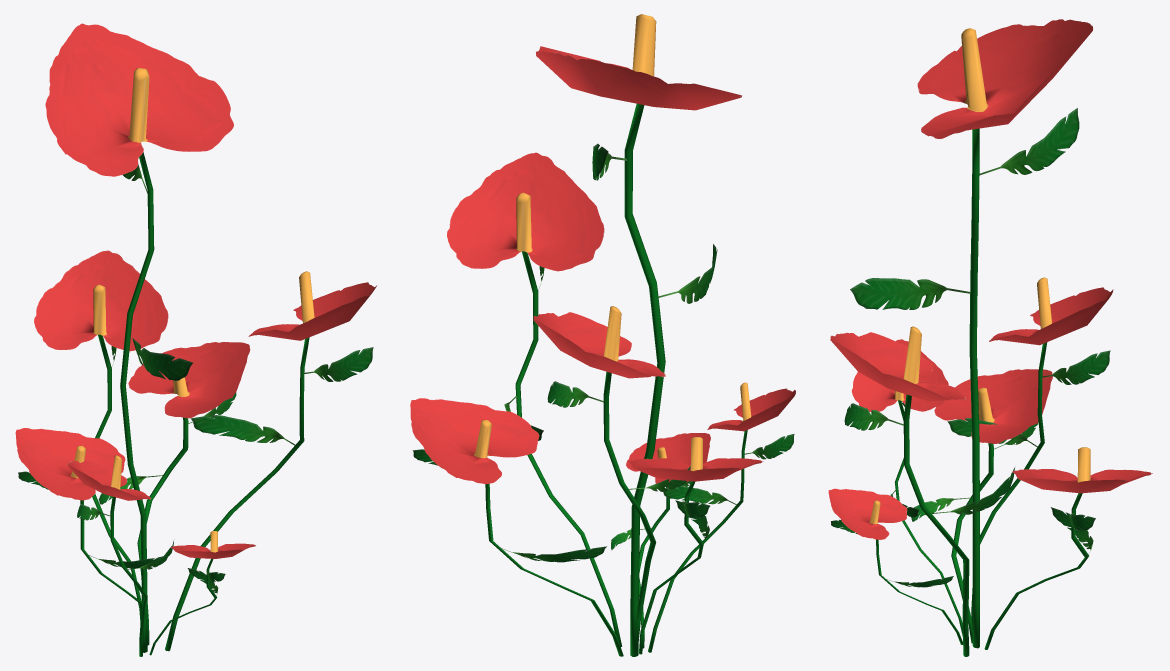
The model's file is red_lion.fbx.
3 renders of one model, left to right at view 1: azimuth 30°, elevation 25°; view 2: azimuth 150°, elevation 25°; view 3: azimuth 270°, elevation 25°, orthographic. The views are drawn at different scales.
Parts seen in each view (by area): view 1: Plane.009; view 2: Plane.009; view 3: Plane.009.
Part boxes in pixels (bbox=[...]): Plane.009: bbox=[15, 23, 376, 656]; Plane.009: bbox=[410, 14, 795, 656]; Plane.009: bbox=[828, 19, 1152, 656].
Size of the model in its own units: 25.41 by 46.78 by 22.48.
